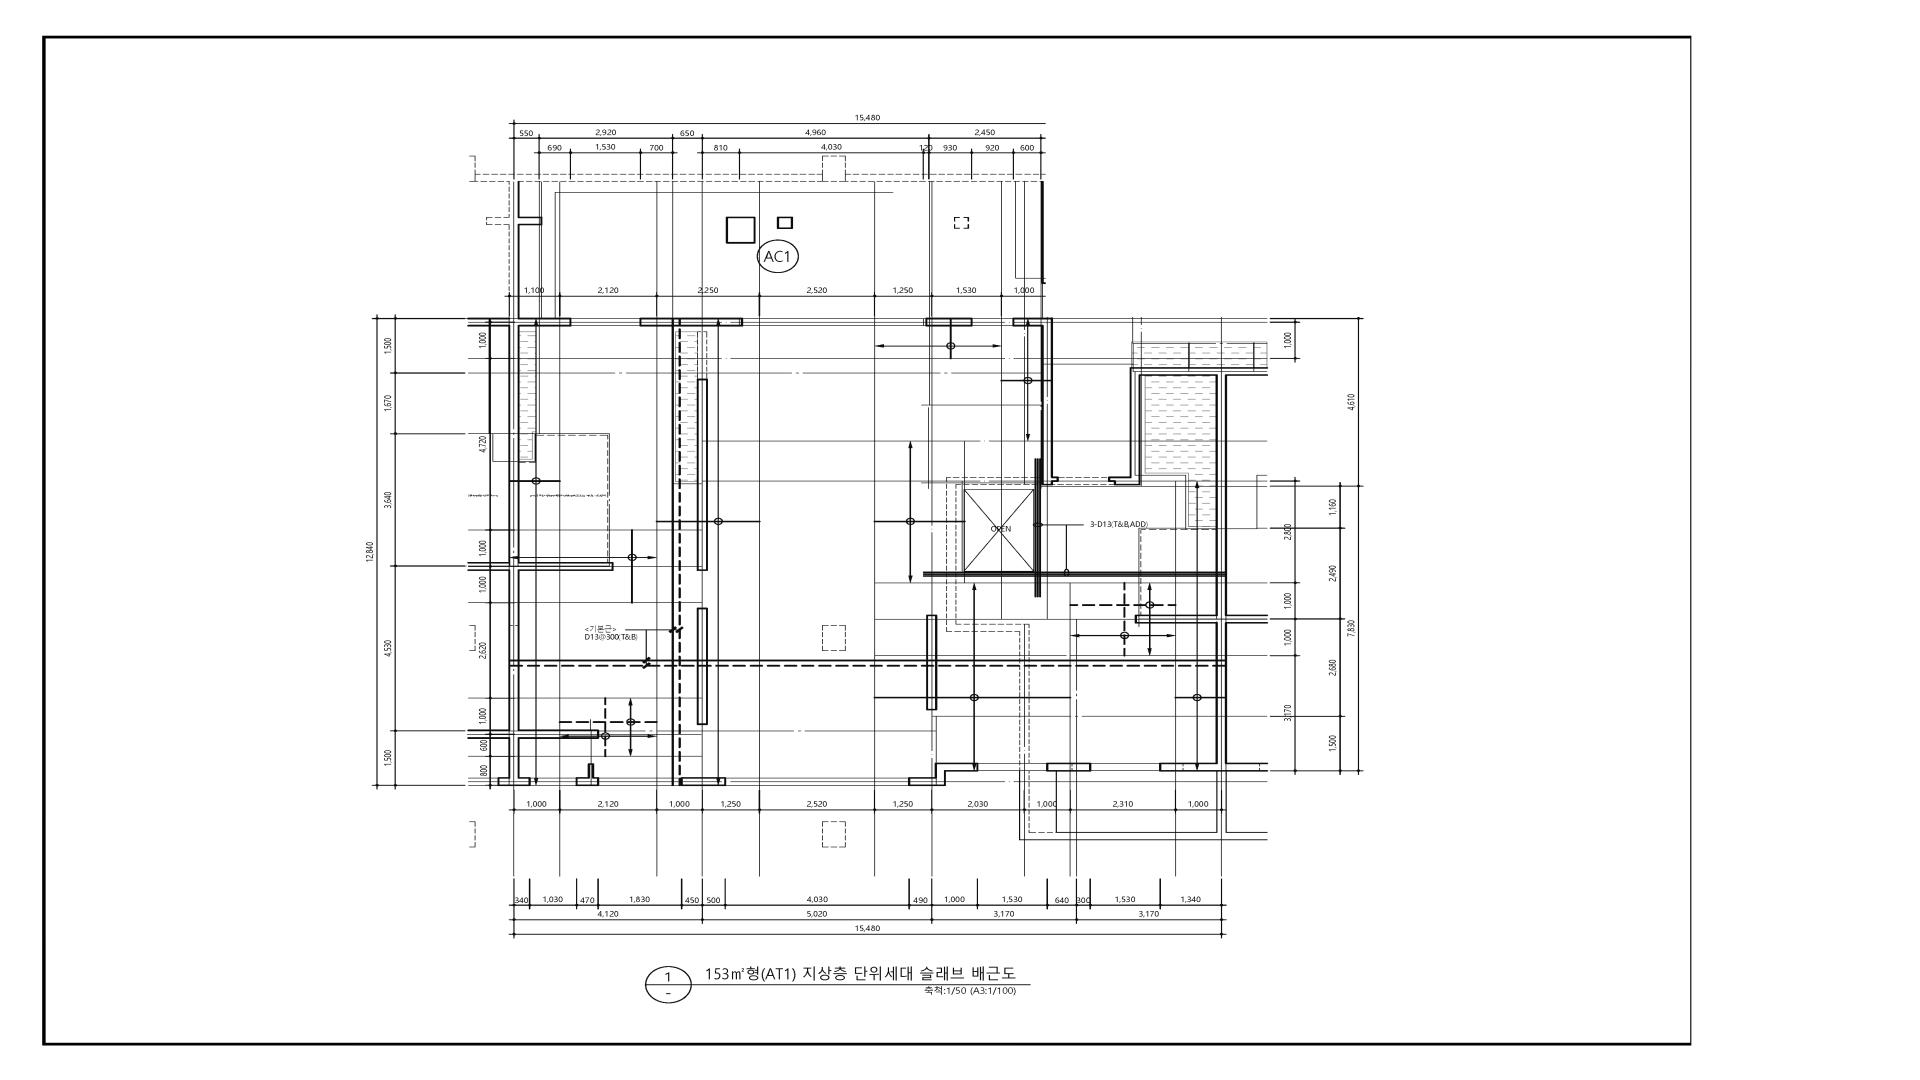wall: (671, 318, 680, 659), (509, 327, 520, 562), (520, 174, 823, 182), (1216, 376, 1228, 571), (938, 659, 1228, 667), (696, 378, 708, 571), (1040, 327, 1054, 485), (708, 659, 938, 667), (508, 659, 708, 667), (845, 174, 1043, 182), (1019, 832, 1216, 840), (1130, 376, 1141, 485), (1216, 667, 1228, 762), (671, 667, 680, 786), (508, 571, 520, 659), (1040, 571, 1228, 576), (509, 225, 520, 318), (1034, 459, 1042, 572), (520, 562, 613, 571), (725, 216, 756, 244), (1130, 367, 1216, 376), (1135, 615, 1216, 624), (508, 667, 520, 729), (520, 729, 599, 738), (696, 667, 708, 725), (1216, 771, 1226, 832), (1019, 771, 1030, 832), (822, 156, 845, 182), (696, 608, 708, 659), (680, 318, 744, 327), (923, 571, 1034, 576), (926, 615, 938, 659), (1159, 762, 1216, 771), (926, 667, 938, 711), (520, 318, 571, 327), (1216, 576, 1228, 615), (508, 738, 520, 777), (926, 318, 973, 327), (1046, 762, 1092, 771), (680, 777, 727, 786), (1216, 624, 1228, 659), (935, 762, 978, 771), (467, 562, 509, 571), (467, 729, 509, 738), (468, 318, 509, 327), (1013, 318, 1054, 327), (1228, 367, 1269, 376), (1228, 615, 1269, 624), (1228, 762, 1269, 771), (509, 182, 520, 216), (1226, 832, 1267, 840), (497, 777, 530, 786), (640, 318, 671, 327), (475, 174, 509, 182), (909, 777, 935, 786), (575, 777, 599, 786), (777, 216, 793, 229), (520, 216, 542, 225), (487, 216, 509, 225), (1108, 476, 1130, 485), (935, 771, 945, 786), (1034, 576, 1040, 597), (1216, 367, 1228, 376), (1216, 615, 1228, 624), (1216, 762, 1228, 771), (508, 729, 520, 738), (509, 216, 520, 225), (509, 318, 520, 327), (509, 562, 520, 571), (588, 764, 595, 777), (509, 174, 520, 182), (1216, 832, 1226, 840), (1052, 476, 1059, 481), (1034, 571, 1040, 576)
